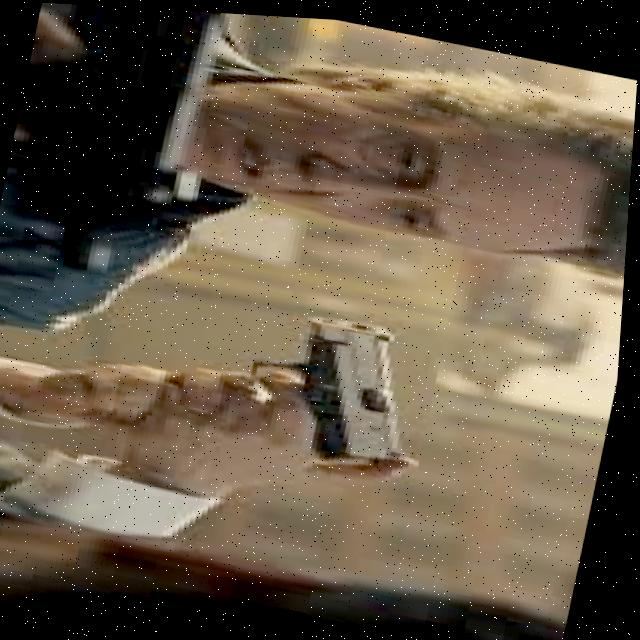firearm: (0, 0, 272, 300)
pistol: (232, 294, 438, 473)
